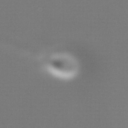normal: (1, 33, 47, 65)
